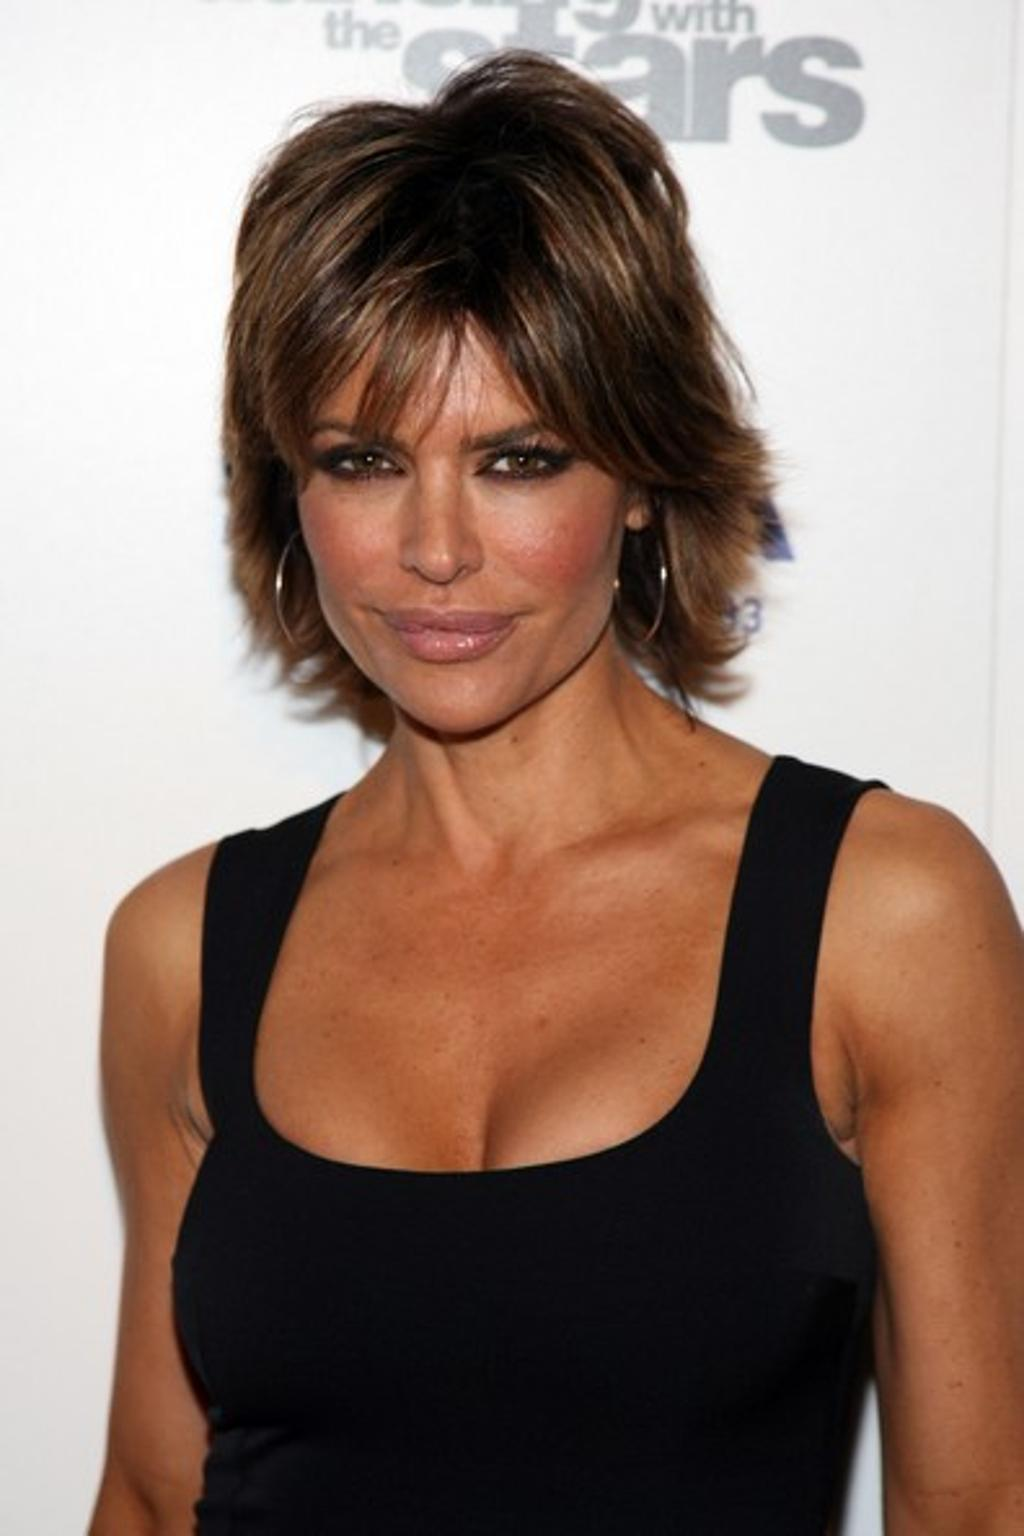face: (294, 339, 603, 729)
